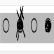correct: (44, 17, 52, 34)
no answer: (2, 16, 10, 34), (30, 16, 38, 34)
not correct: (15, 4, 26, 42)
